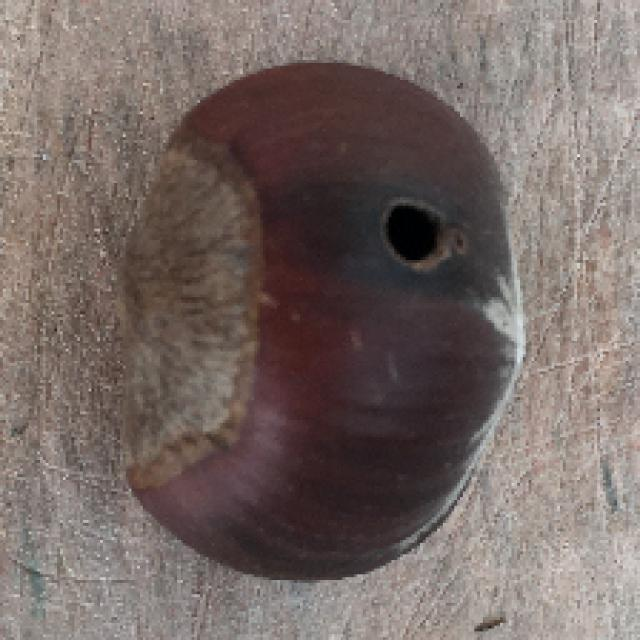damagedHazelnut: (110, 55, 526, 582)
